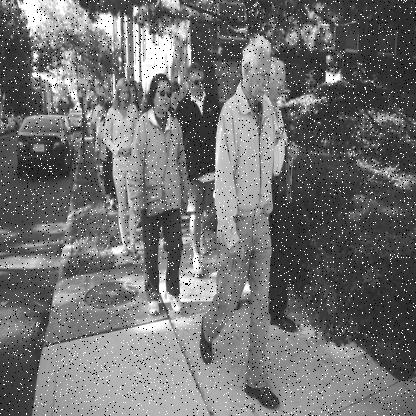Car: (18, 116, 75, 178), (68, 109, 82, 128)
